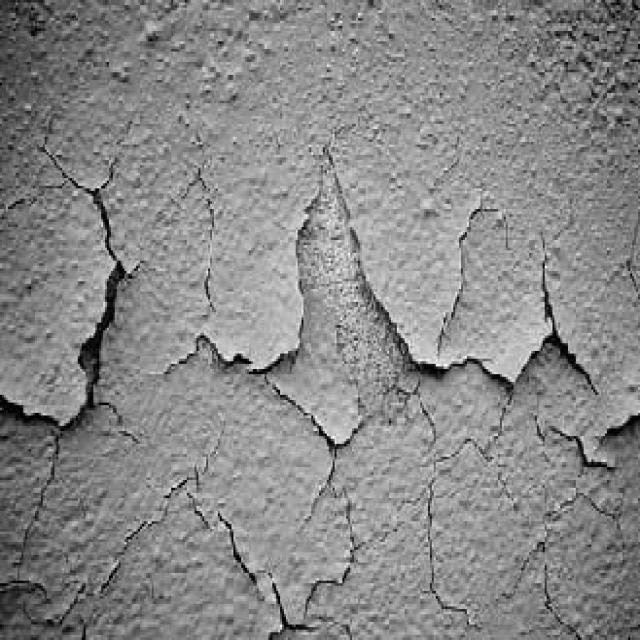peeling paint: (1, 83, 640, 640)
